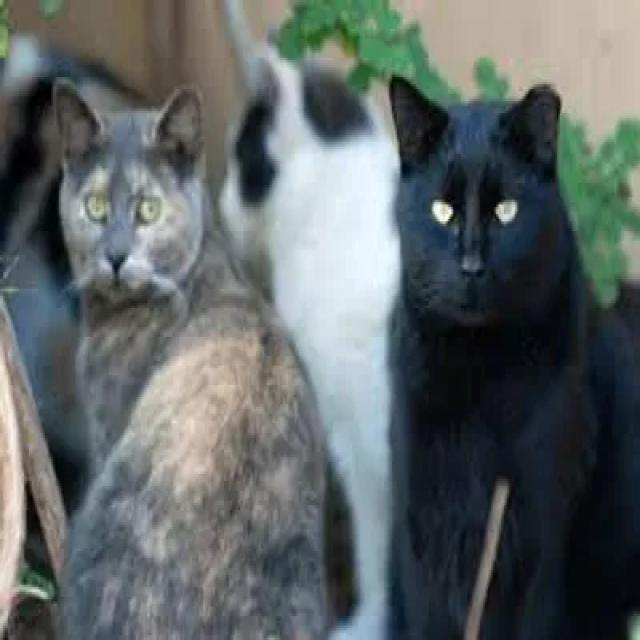cat: (54, 83, 325, 639), (390, 79, 640, 638), (221, 47, 400, 638)
